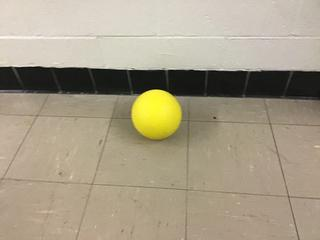power_cell: (130, 88, 184, 145)
